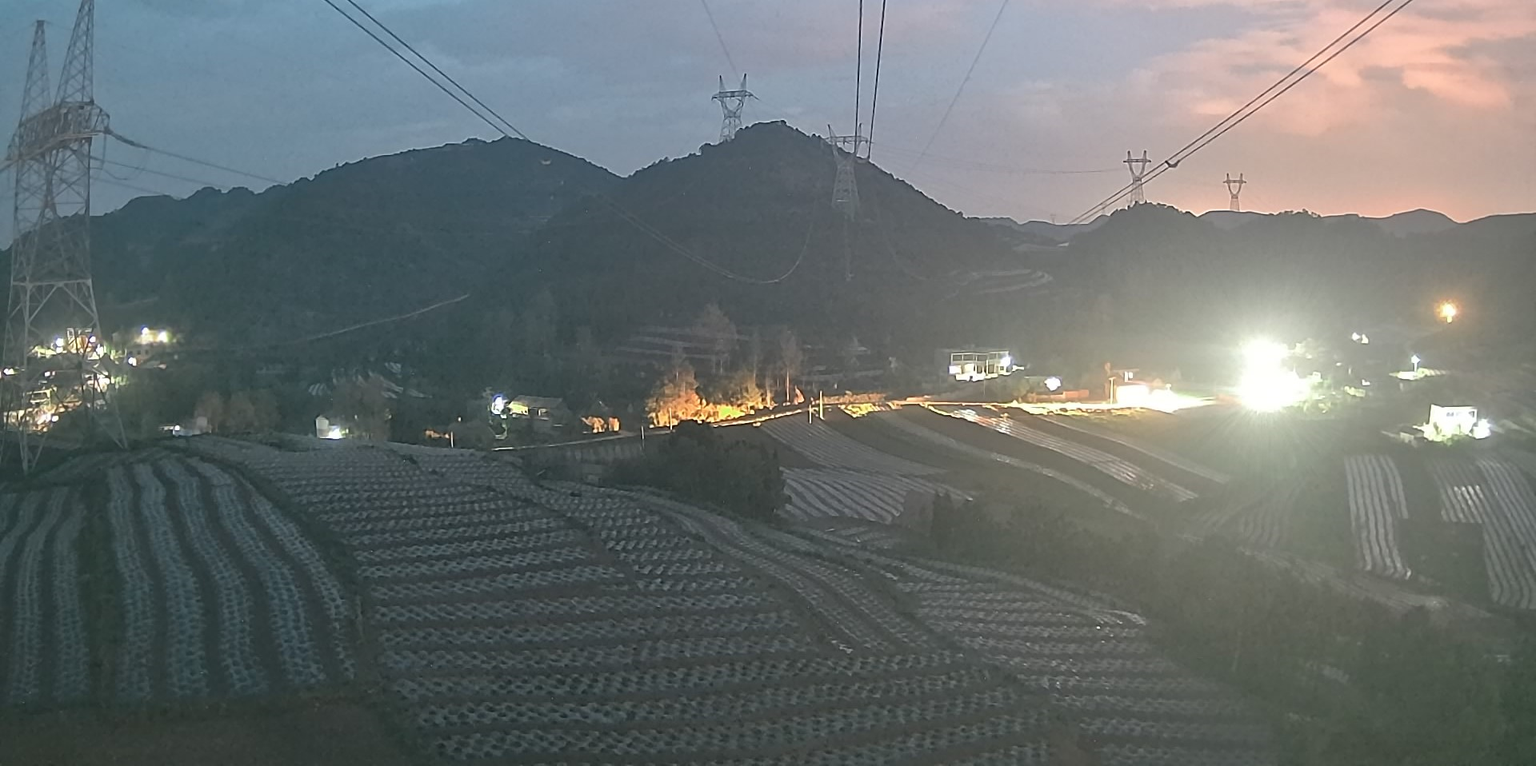过爆灯光: (1231, 337, 1310, 413), (1412, 404, 1492, 440), (1114, 385, 1203, 413), (1044, 377, 1061, 391), (326, 428, 344, 439)
